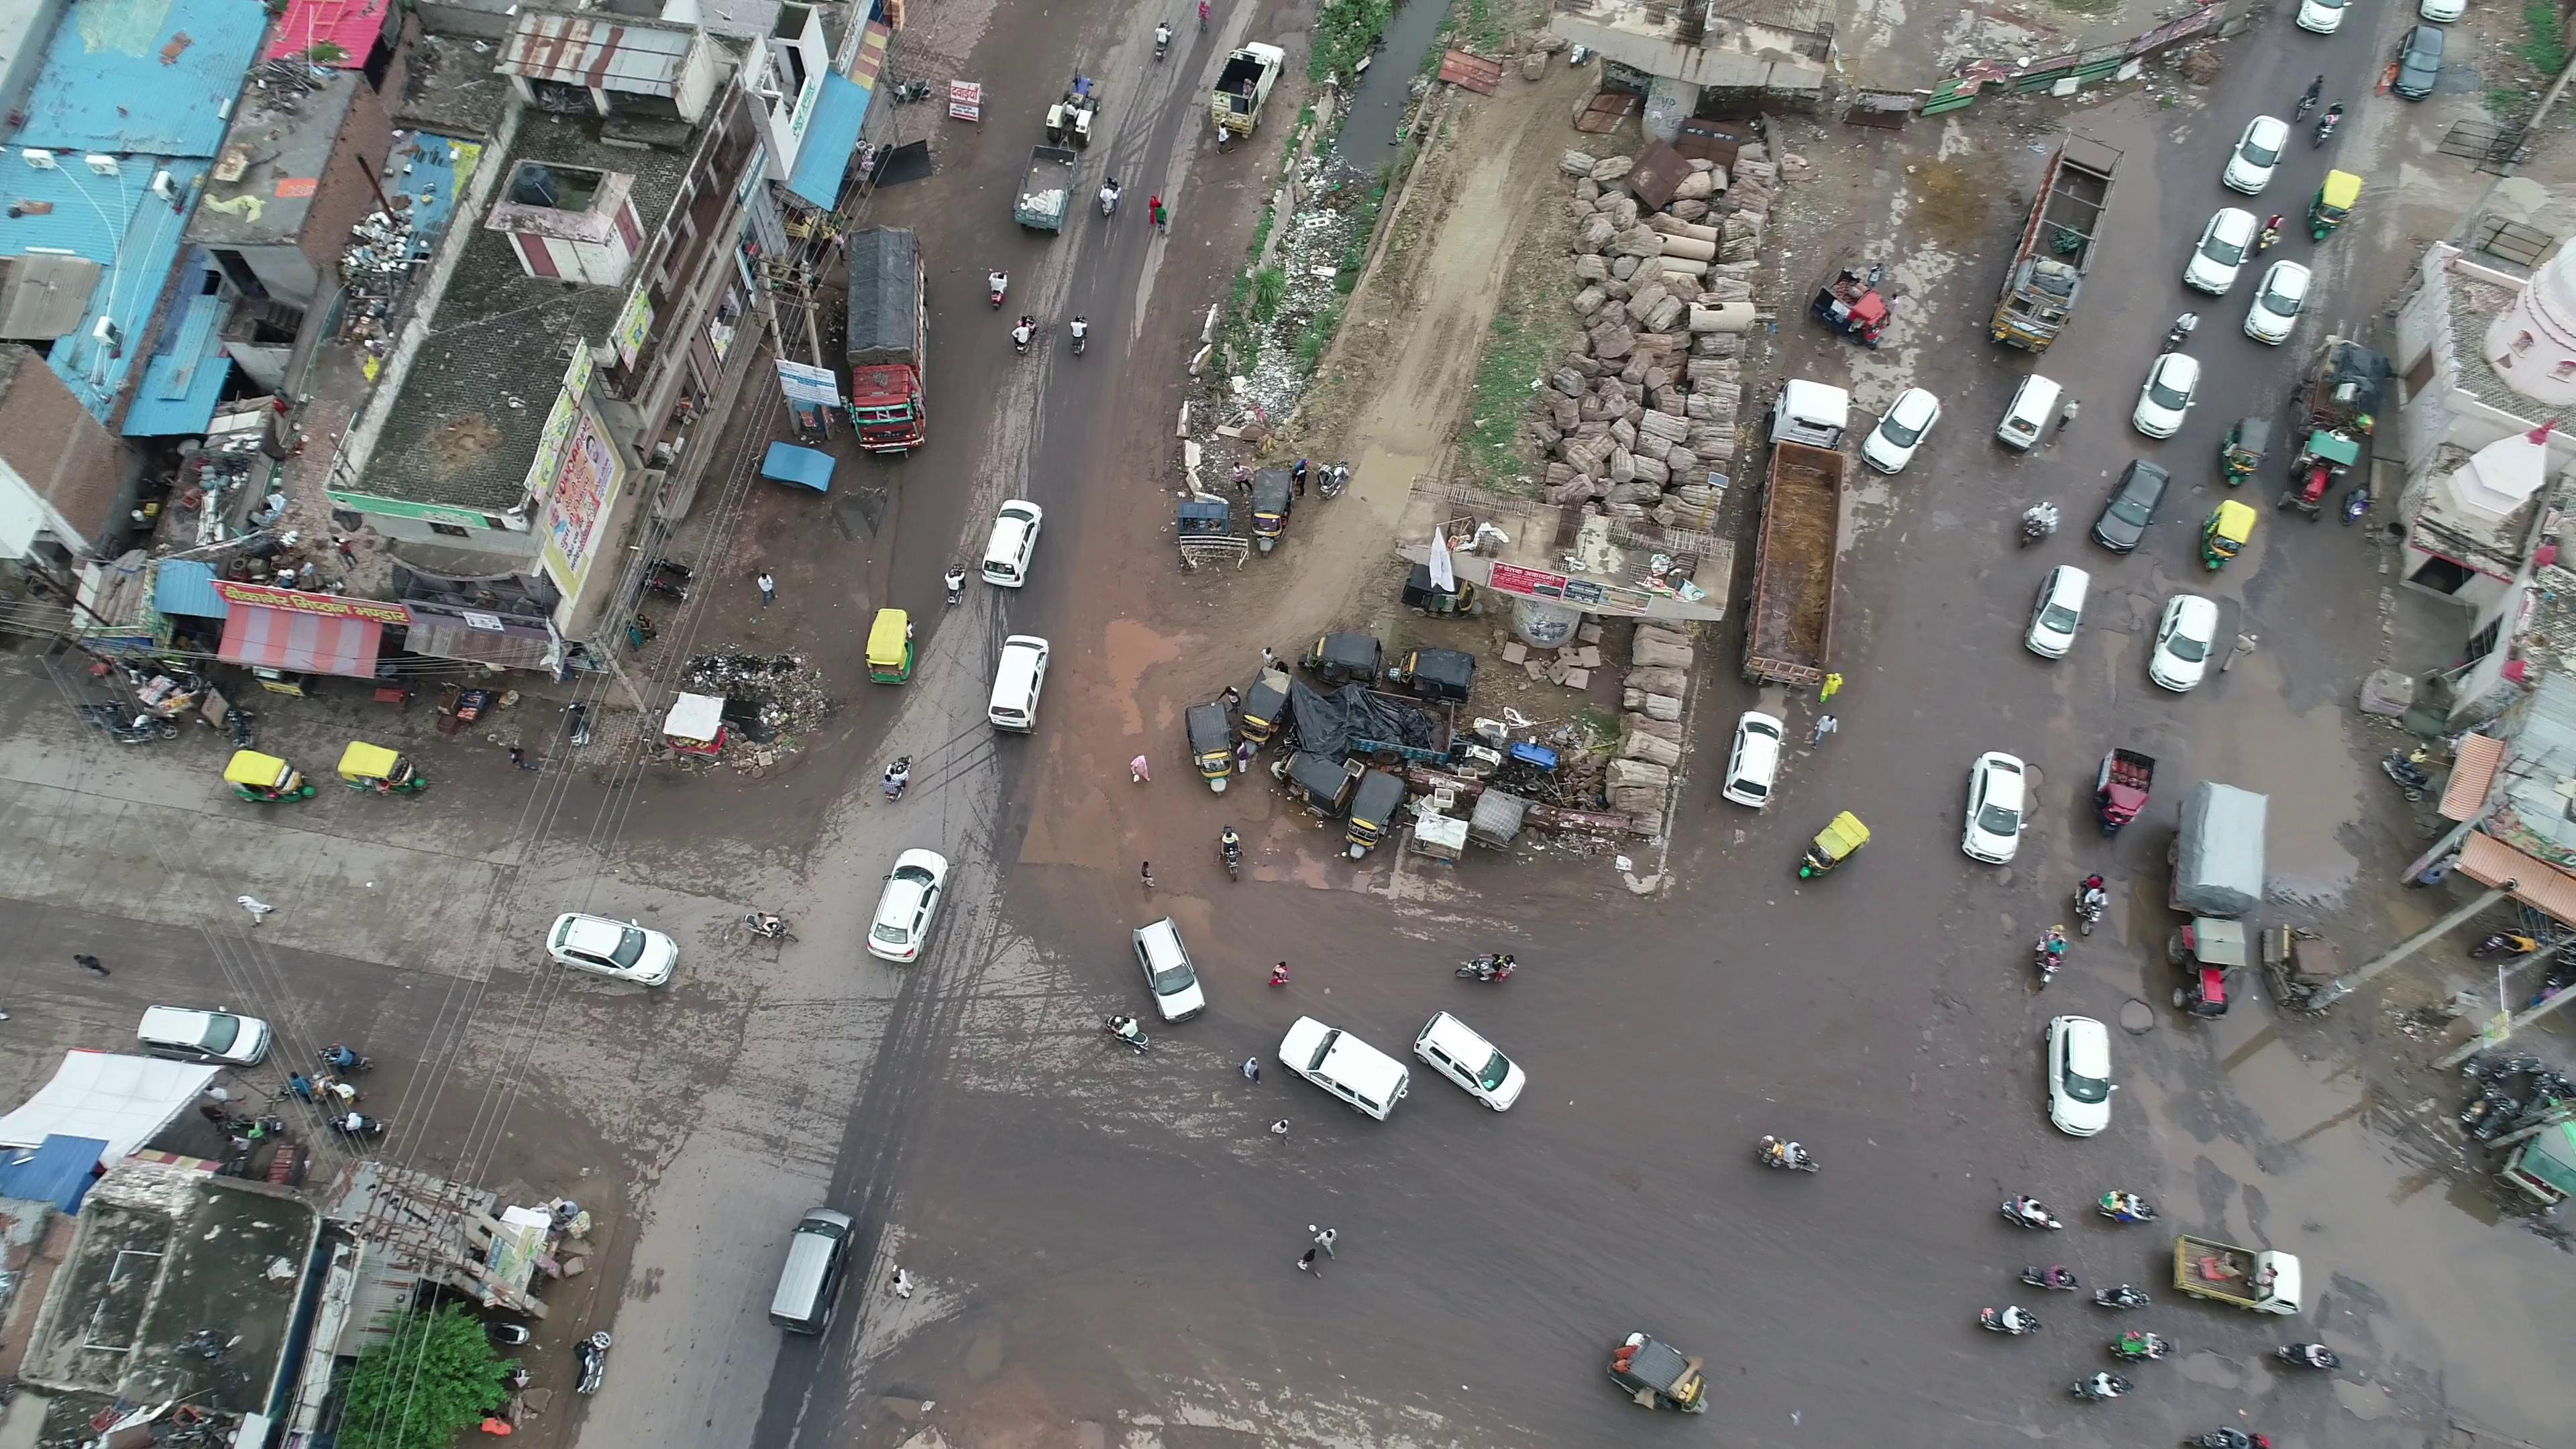Potholes: (2089, 980, 2180, 1054)
Waterlogging: (2220, 671, 2371, 895)
